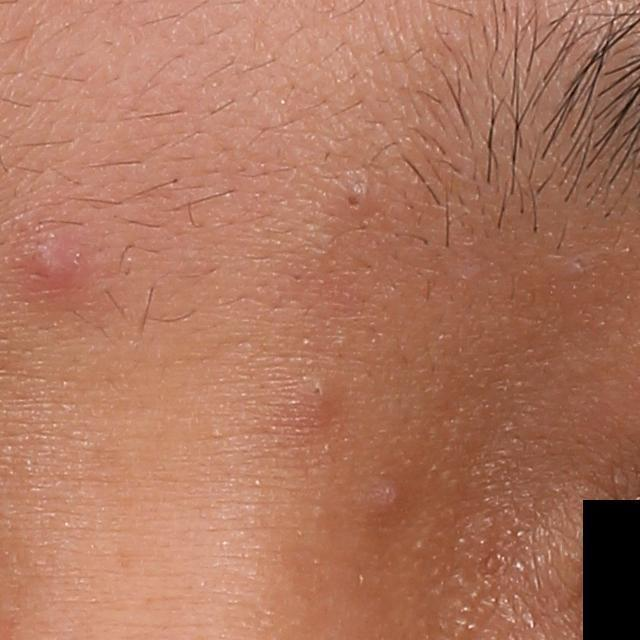comedo: (330, 177, 378, 218), (300, 374, 334, 403)
papule: (11, 218, 93, 292), (363, 474, 413, 520)
